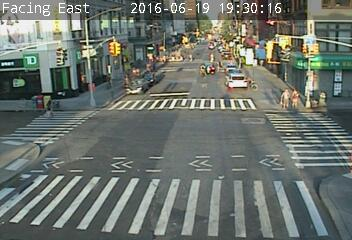neg: (298, 115, 312, 134), (206, 58, 216, 73), (209, 36, 214, 43)
pos: (42, 97, 58, 117), (278, 88, 293, 107), (102, 71, 117, 90), (291, 88, 304, 106), (122, 73, 133, 88)
